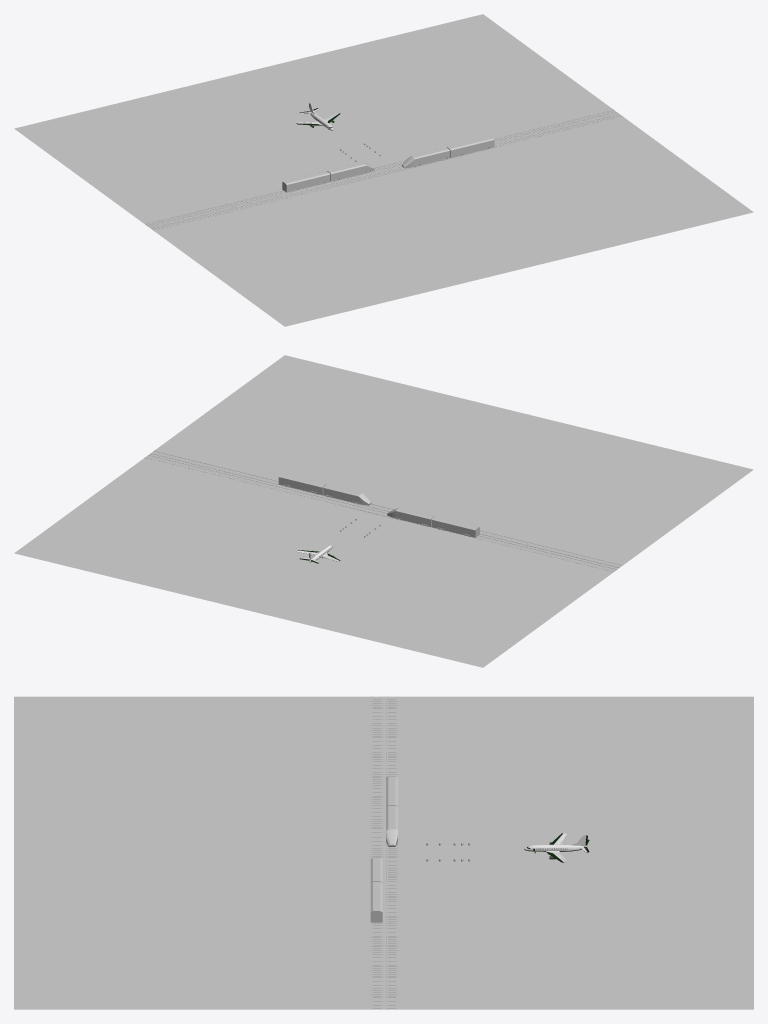
Rendered from changjing2_6.fbx.
The picture shows the model from 3 angles, top to bottom: view 1: azimuth 30°, elevation 25°; view 2: azimuth 150°, elevation 25°; view 3: azimuth 270°, elevation 25°; orthographic projection. The views are drawn at different scales.
Parts seen in each view (by area): view 1: changjing2_5, huochedao4, huochedao3, HuoChe4, HuoChe3; view 2: changjing2_5, huochedao3, huochedao4, HuoChe4, HuoChe3; view 3: changjing2_5, huochedao4, huochedao3, HuoChe4, HuoChe3, FeiJi5.
Part boxes in pixels (x1,y1,x2,y2): changjing2_5: [14, 14, 753, 326]; huochedao4: [150, 113, 622, 230]; huochedao3: [145, 109, 616, 226]; HuoChe4: [401, 136, 494, 168]; HuoChe3: [282, 162, 374, 192]; changjing2_5: [14, 355, 753, 667]; huochedao3: [145, 455, 616, 571]; huochedao4: [150, 450, 622, 567]; HuoChe4: [278, 473, 371, 505]; HuoChe3: [387, 507, 479, 537]; changjing2_5: [14, 696, 753, 1009]; huochedao4: [370, 696, 382, 1009]; huochedao3: [386, 696, 397, 1009]; HuoChe4: [370, 858, 382, 922]; HuoChe3: [386, 776, 397, 846]; FeiJi5: [524, 833, 589, 862].
Bounding box in the file's own units: 34371 × 914 × 34371.
